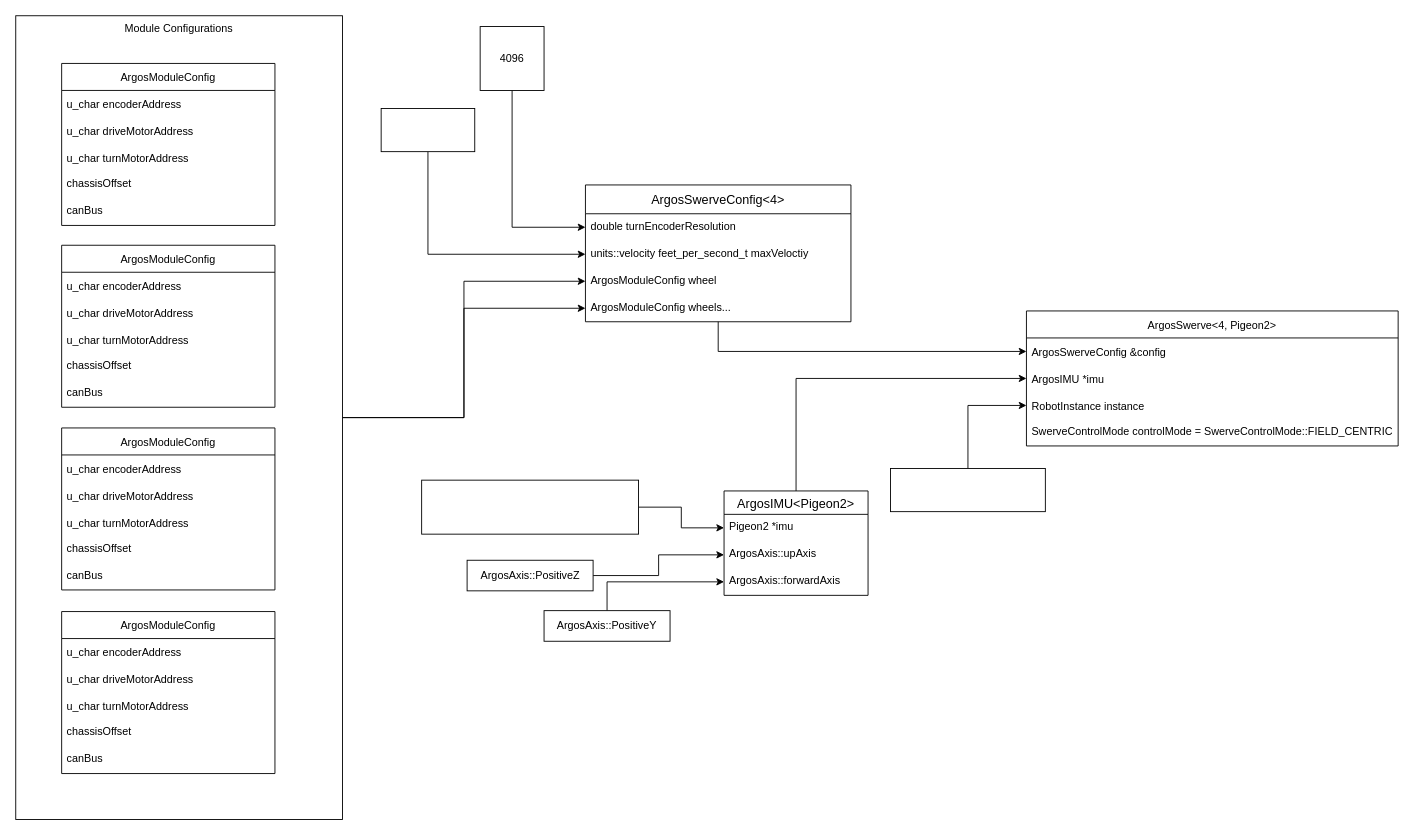
Image size: 1414x835. Some labels were removed from this diagram. Here are the shapes that lost their labels. From the top down, the centre of each, then its label:
[427,130]: 12_fps
[530,506]: address of Pigeon2 pigeon{1, "drive"}
[967,490]: RobotInstance::Competition
